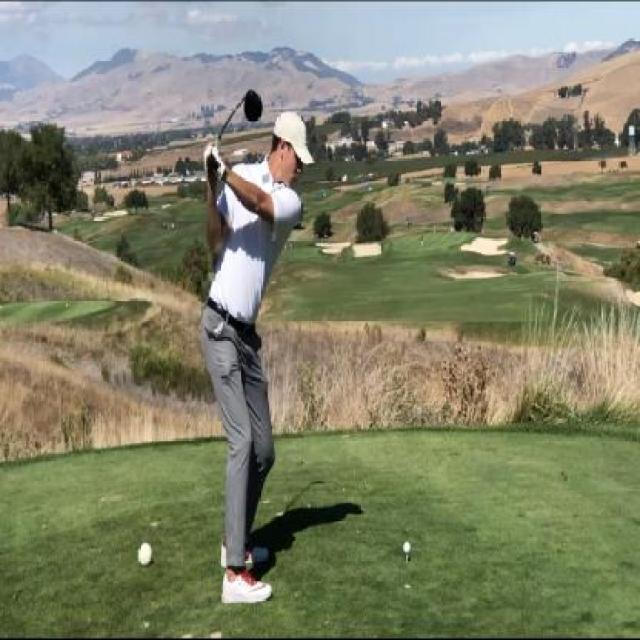club head: (242, 83, 264, 122)
